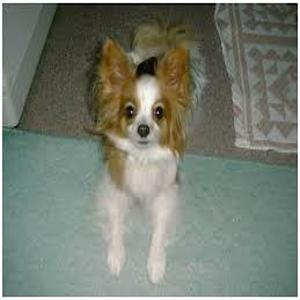yell: (85, 19, 209, 284)
